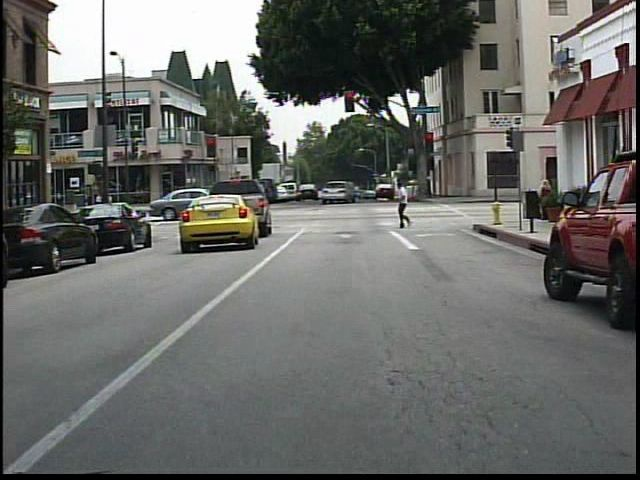person: (392, 180, 418, 231), (536, 175, 557, 198)
